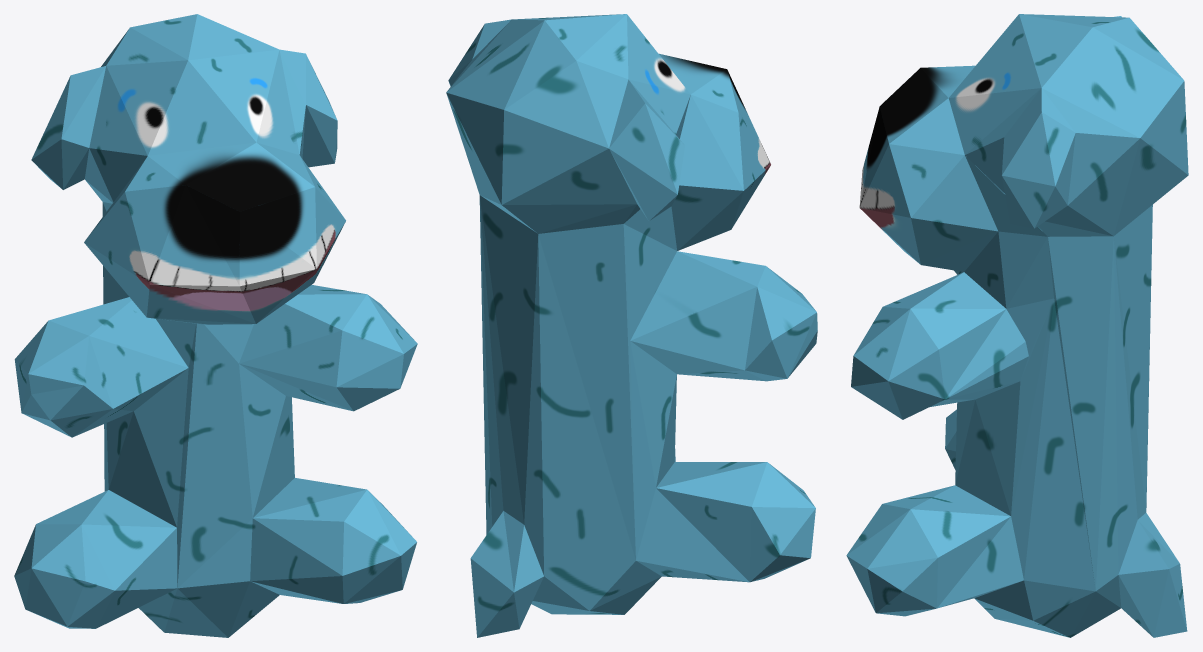
The model's file is dogtoy.fbx.
The picture shows the model from 3 angles, left to right: view 1: azimuth 30°, elevation 25°; view 2: azimuth 150°, elevation 25°; view 3: azimuth 270°, elevation 25°; orthographic projection. The views are drawn at different scales.
Visible parts, largest first — view 1: obj_0; view 2: obj_0; view 3: obj_0.
Boxes of the visible parts, box(x1,y1,x2,y2) form: obj_0: box(14, 14, 417, 637); obj_0: box(446, 14, 817, 637); obj_0: box(846, 14, 1188, 637).
Size of the model in its own units: 410 by 683 by 348.
1 material, 1 textured.
